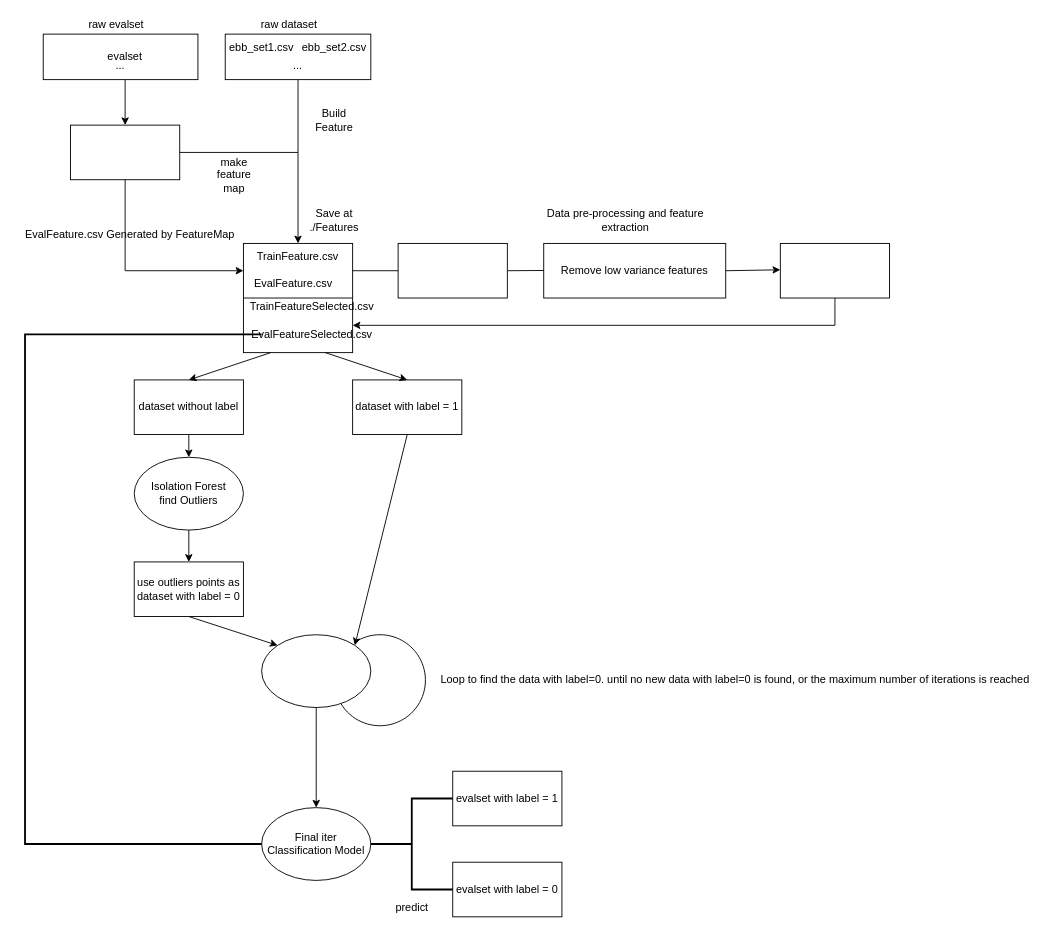
Some shapes in this 1050 by 933 pixel diagram are drawn without their labels. The shapes that lost their labels are listed below. From the top down, each one's centre as x and y in pixels, then its label:
At point 125,152: "Save at ./FeatureMap".
At point 452,270: "Removal of features with a high number of null values".
At point 834,270: "StandardScaler then PCA".
At point 316,671: "Classification Model".
